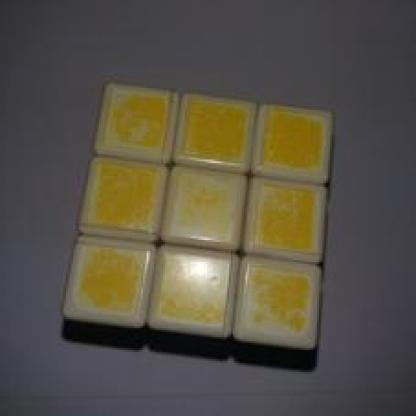cube: (69, 64, 343, 379)
